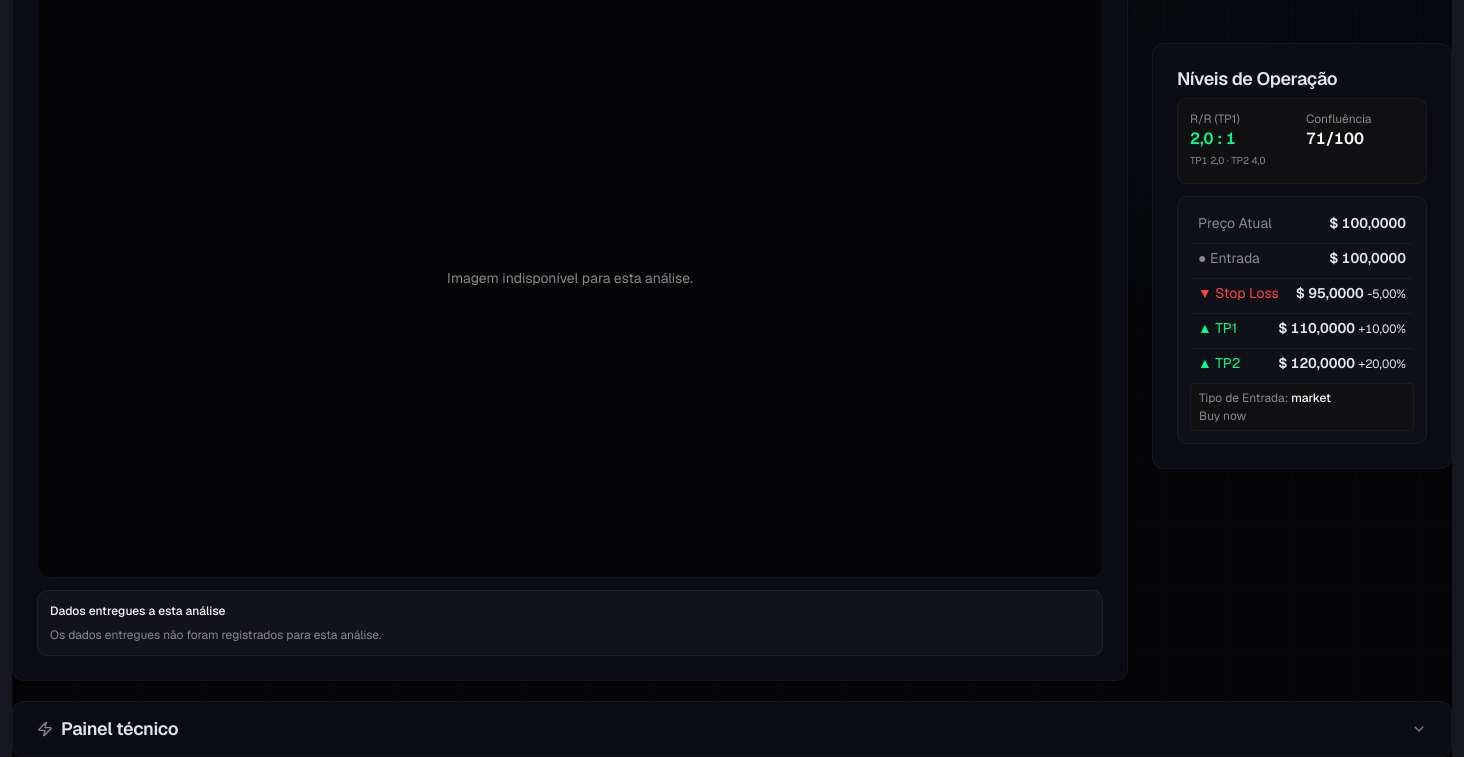
C1 technical evidence caution presentation › keeps caution distinct from failure in pt
(page scrolled)
Click the button "Painel técnico": (120, 729) x1=13 y1=702 x2=1451 y2=756
(page scrolled)
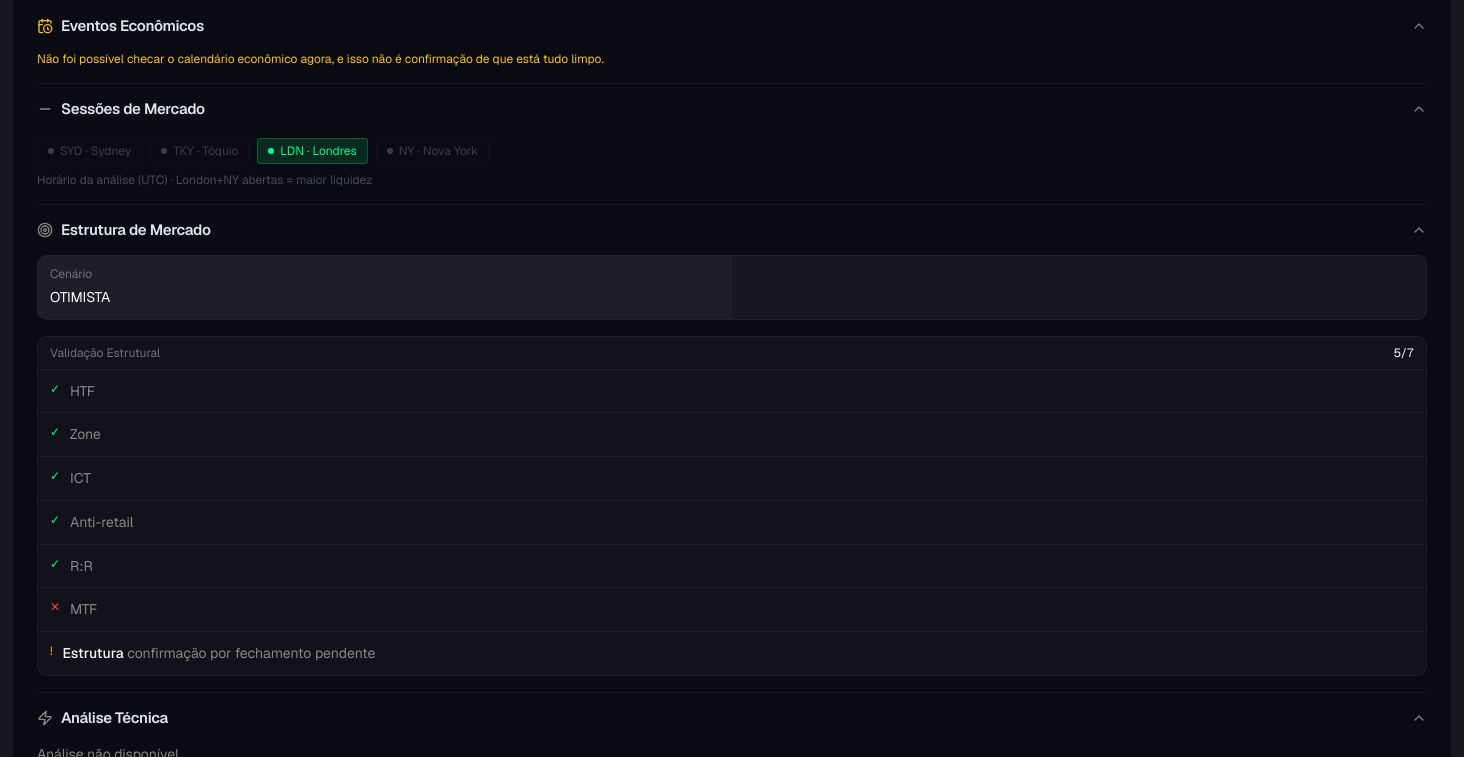
Expected: the text "!" is shown, x1=50 y1=643 x2=53 y2=659
Expected: the text "5/7" is shown, x1=1394 y1=345 x2=1414 y2=361
